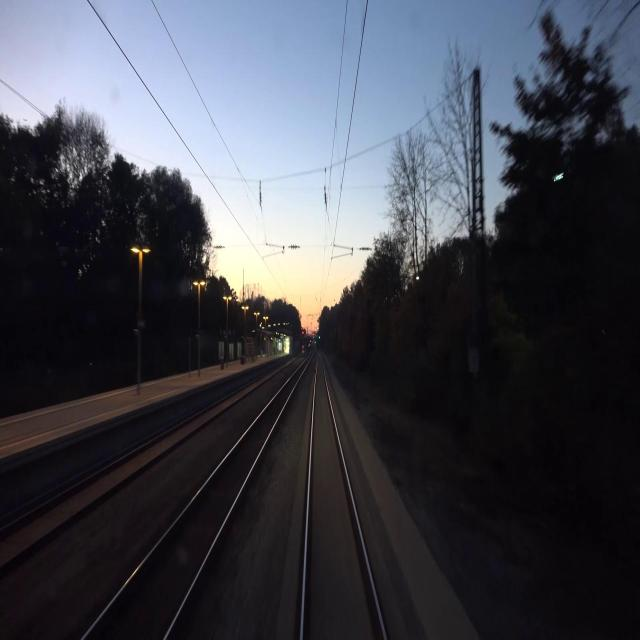rail-track: (87, 366, 303, 639), (0, 388, 248, 561), (304, 356, 382, 639)
